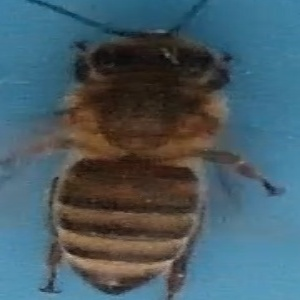bee: (20, 7, 290, 295)
